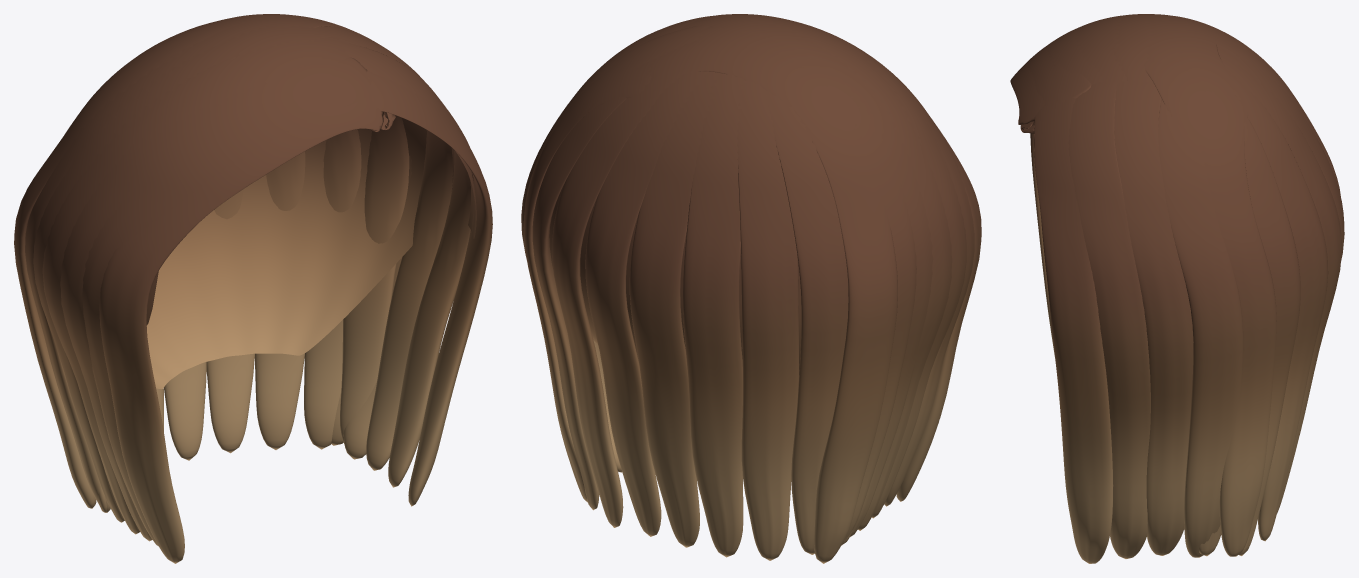
The model's file is Feminine-straight-bucket261-hair-ombre.glb.
3 views of the same model, side by side, from view 1: azimuth 30°, elevation 25°; view 2: azimuth 150°, elevation 25°; view 3: azimuth 270°, elevation 25° (orthographic). The views are drawn at different scales.
Visible parts, largest first — view 1: 226 hair / Hair / sculpted 0.001, 226 hair / Hair / sculpted 1.002, 226 hair / Hair / sculpted 2.001, 226 hair / Hair / sculpted 1.001; view 2: 226 hair / Hair / sculpted 0.001, 226 hair / Hair / sculpted 2.001, 226 hair / Hair / sculpted 1.002, 226 hair / Hair / sculpted 1.001; view 3: 226 hair / Hair / sculpted 1.002, 226 hair / Hair / sculpted 2.001, 226 hair / Hair / sculpted 0.001.
Boxes of the visible parts, box(x1,y1,x2,y2) form: 226 hair / Hair / sculpted 0.001: box(14, 14, 452, 563); 226 hair / Hair / sculpted 1.002: box(33, 15, 492, 545); 226 hair / Hair / sculpted 2.001: box(25, 15, 473, 541); 226 hair / Hair / sculpted 1.001: box(146, 118, 476, 389); 226 hair / Hair / sculpted 0.001: box(552, 14, 981, 563); 226 hair / Hair / sculpted 2.001: box(523, 14, 966, 554); 226 hair / Hair / sculpted 1.002: box(521, 14, 974, 560); 226 hair / Hair / sculpted 1.001: box(549, 182, 801, 374); 226 hair / Hair / sculpted 1.002: box(1027, 14, 1341, 563); 226 hair / Hair / sculpted 2.001: box(1047, 14, 1344, 558); 226 hair / Hair / sculpted 0.001: box(1010, 15, 1340, 555).
Bounding box in the file's own units: 1.01 × 1.15 × 0.7402.
